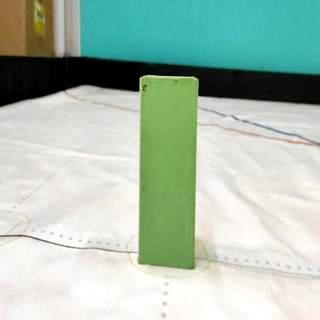greenbox: (138, 76, 198, 270)
